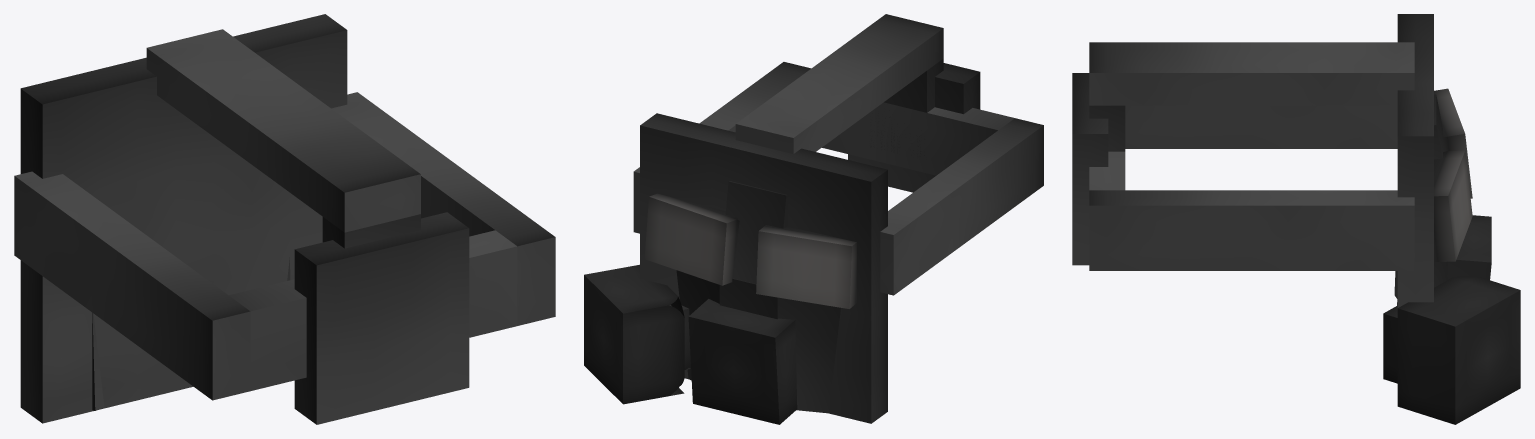
Rendered from gas_mask_military.obj.
The picture shows the model from 3 angles, left to right: view 1: azimuth 30°, elevation 25°; view 2: azimuth 150°, elevation 25°; view 3: azimuth 270°, elevation 25°; orthographic projection. The views are drawn at different scales.
Parts seen in each view (by area): view 1: bodyModel15, bodyModel1, bodyModel13, bodyModel10, bodyModel11, bodyModel12, bodyModel14, bodyModel5; view 2: bodyModel15, bodyModel13, bodyModel10, bodyModel9, bodyModel8, bodyModel12, bodyModel3, bodyModel0, bodyModel5, bodyModel2, bodyModel1, bodyModel11 (+3 smaller); view 3: bodyModel11, bodyModel10, bodyModel9, bodyModel13, bodyModel15, bodyModel1, bodyModel0, bodyModel8, bodyModel3, bodyModel12, bodyModel14, bodyModel7 (+1 smaller).
Part boxes in pixels (<box>): bodyModel15: <box>20,14,347,423</box>; bodyModel1: <box>294,212,469,424</box>; bodyModel13: <box>14,171,250,400</box>; bodyModel10: <box>146,29,420,232</box>; bodyModel11: <box>331,92,555,325</box>; bodyModel12: <box>229,230,517,390</box>; bodyModel14: <box>322,214,420,248</box>; bodyModel5: <box>92,313,104,410</box>; bodyModel15: <box>640,113,887,423</box>; bodyModel13: <box>880,118,1043,295</box>; bodyModel10: <box>735,14,943,153</box>; bodyModel9: <box>584,264,684,404</box>; bodyModel8: <box>688,299,797,424</box>; bodyModel12: <box>822,102,1014,175</box>; bodyModel3: <box>756,225,856,308</box>; bodyModel0: <box>644,193,739,285</box>; bodyModel5: <box>778,297,840,413</box>; bodyModel2: <box>725,181,787,283</box>; bodyModel1: <box>848,63,980,192</box>; bodyModel11: <box>633,62,810,233</box>; bodyModel11: <box>1089,190,1414,270</box>; bodyModel10: <box>1089,42,1414,105</box>; bodyModel9: <box>1397,276,1520,424</box>; bodyModel13: <box>1125,105,1397,148</box>; bodyModel15: <box>1397,14,1433,307</box>; bodyModel1: <box>1072,73,1108,265</box>; bodyModel0: <box>1434,150,1472,262</box>; bodyModel8: <box>1447,215,1491,279</box>; bodyModel3: <box>1434,88,1472,198</box>; bodyModel12: <box>1089,151,1125,190</box>; bodyModel14: <box>1089,105,1125,151</box>; bodyModel7: <box>1383,305,1397,383</box>.
Bounding box in the file's own units: 10.06 × 8.6 × 12.4.
